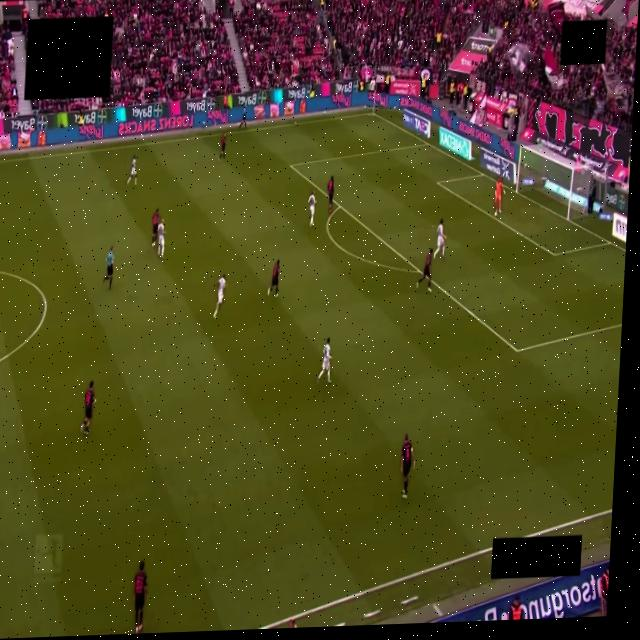ball: (494, 210, 497, 216)
player: (134, 562, 147, 633), (400, 434, 414, 499), (80, 381, 95, 435), (416, 248, 432, 292), (317, 338, 331, 384), (213, 274, 226, 318), (267, 260, 279, 297), (434, 219, 445, 258), (494, 179, 503, 216), (156, 219, 164, 258), (126, 156, 136, 186), (151, 210, 158, 247), (308, 191, 315, 227), (327, 176, 333, 212), (218, 134, 226, 160)
referee: (103, 246, 113, 289)
